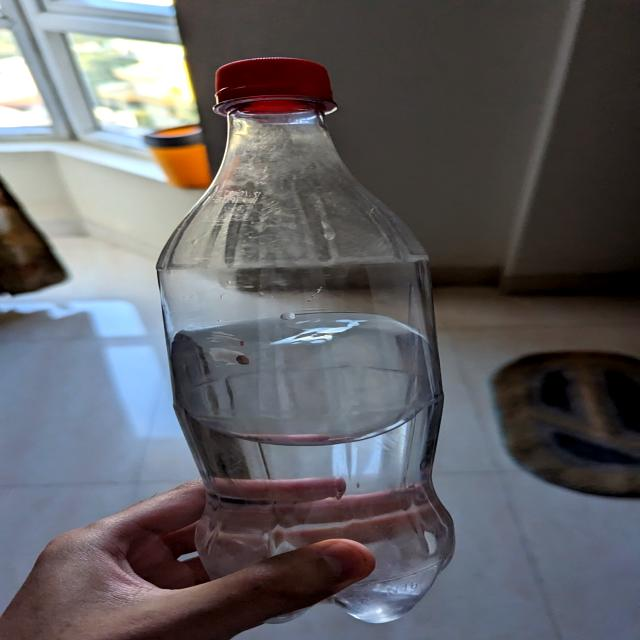half-bottle: (147, 52, 470, 630)
